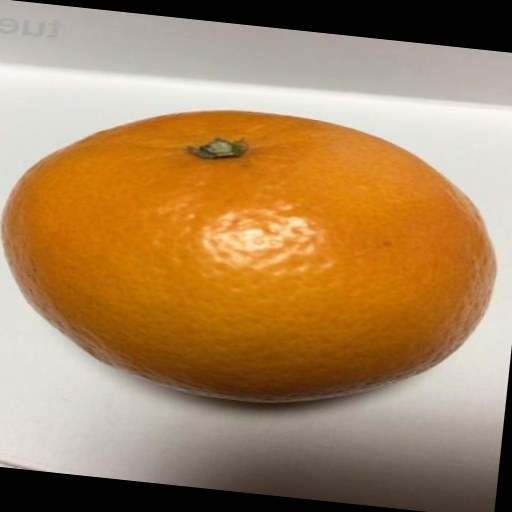fruit: (1, 111, 494, 401)
